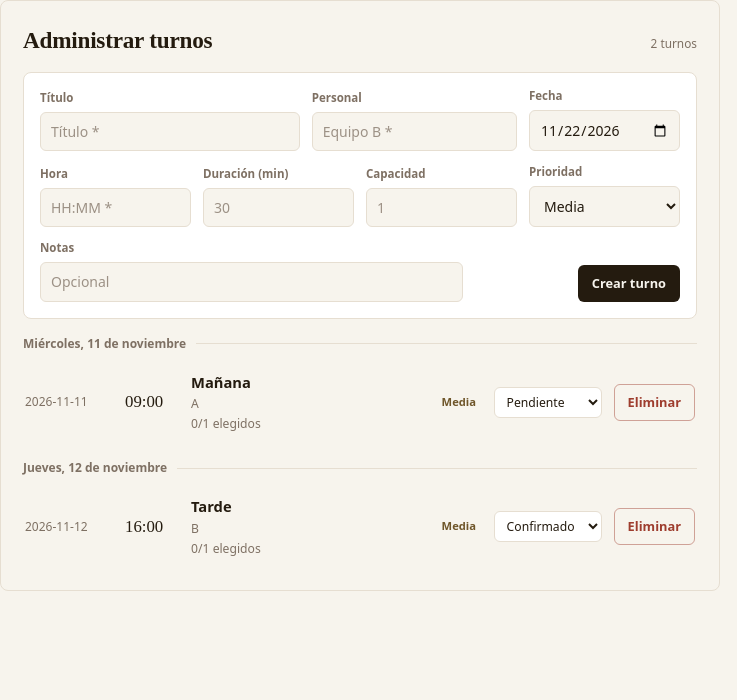
Test: TurnoAdmin (componente del administrador) › shows the adapter validation errors when the form is invalid
Click the button "Crear turno" at (629,283), box [578,265,680,302]
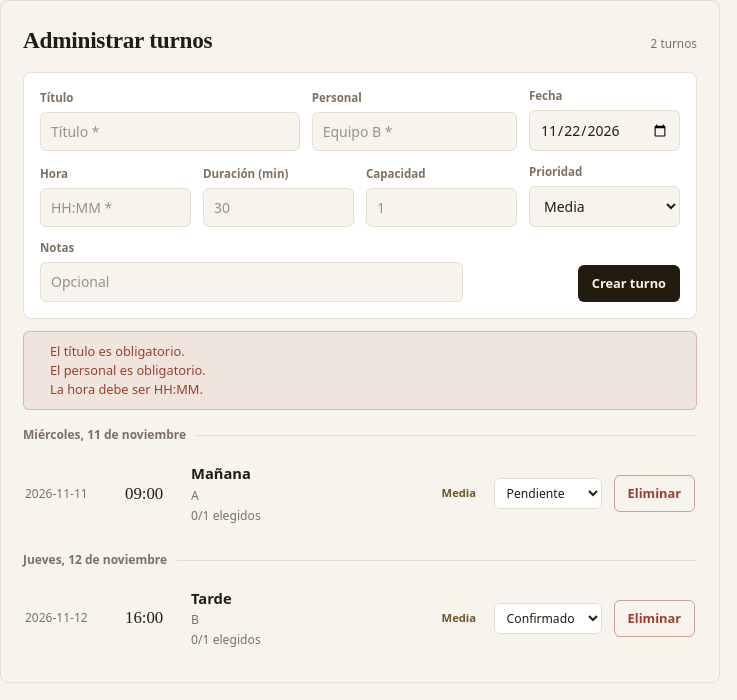
Now the message "El título es obligatorio. El personal es obligatorio. La hora debe ser HH:MM." is shown, box [23,331,697,410]
Now the message shows "El título es obligatorio.", box [50,342,185,360]
Now the message shows "La hora debe ser HH:MM.", box [50,380,203,398]
